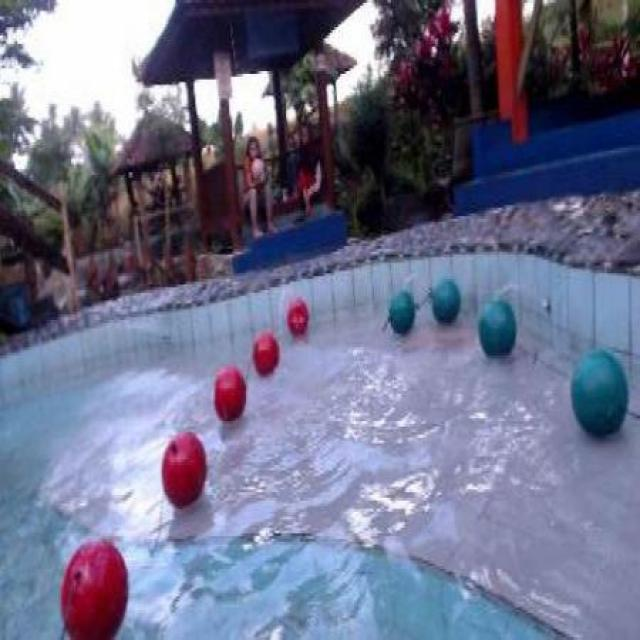buoy: (60, 539, 128, 637), (570, 346, 629, 436), (160, 429, 207, 506), (477, 296, 517, 355), (212, 363, 246, 419), (431, 274, 461, 322), (388, 286, 414, 336), (250, 330, 279, 374), (286, 294, 307, 335)
